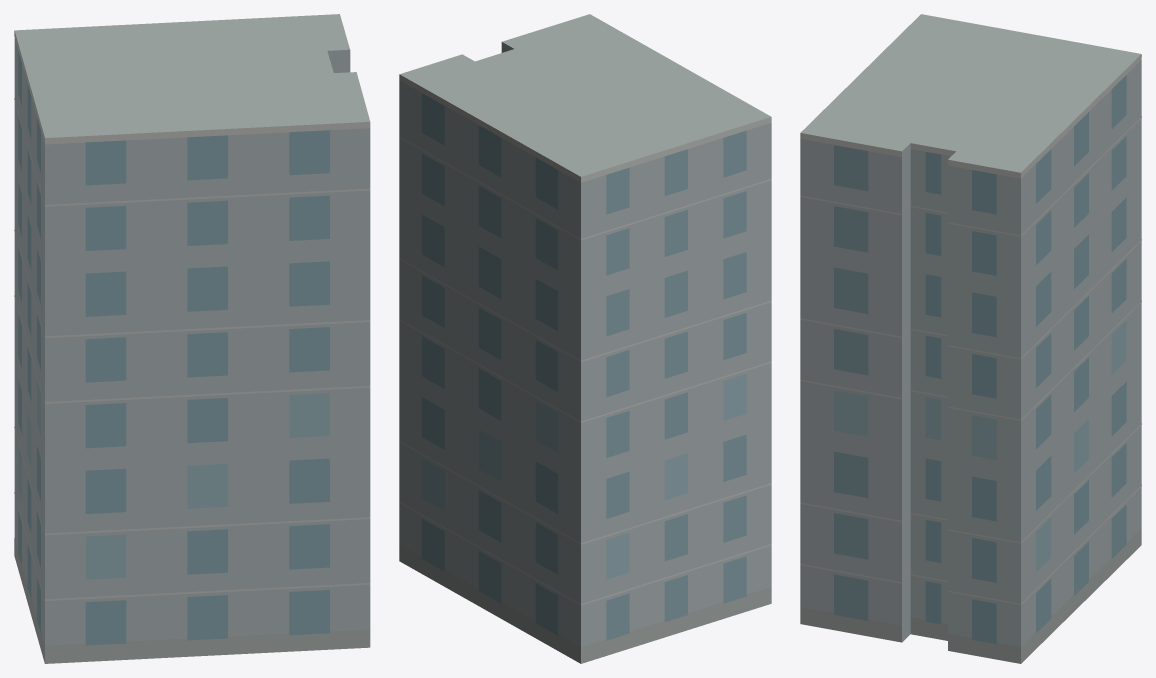
The model's file is survey-upis-32670333.glb.
The picture shows the model from 3 angles, left to right: view 1: azimuth 30°, elevation 25°; view 2: azimuth 150°, elevation 25°; view 3: azimuth 270°, elevation 25°; orthographic projection. The views are drawn at different scales.
Parts seen in each view (by area): view 1: survey-upis-32670333.tmp; view 2: survey-upis-32670333.tmp; view 3: survey-upis-32670333.tmp.
Boxes of the visible parts, x1=… form: survey-upis-32670333.tmp: x1=14, y1=14, x2=370, y2=663; survey-upis-32670333.tmp: x1=399, y1=14, x2=771, y2=663; survey-upis-32670333.tmp: x1=800, y1=14, x2=1141, y2=663.
Size of the model in its own units: 14.03 by 20.2 by 12.75.
